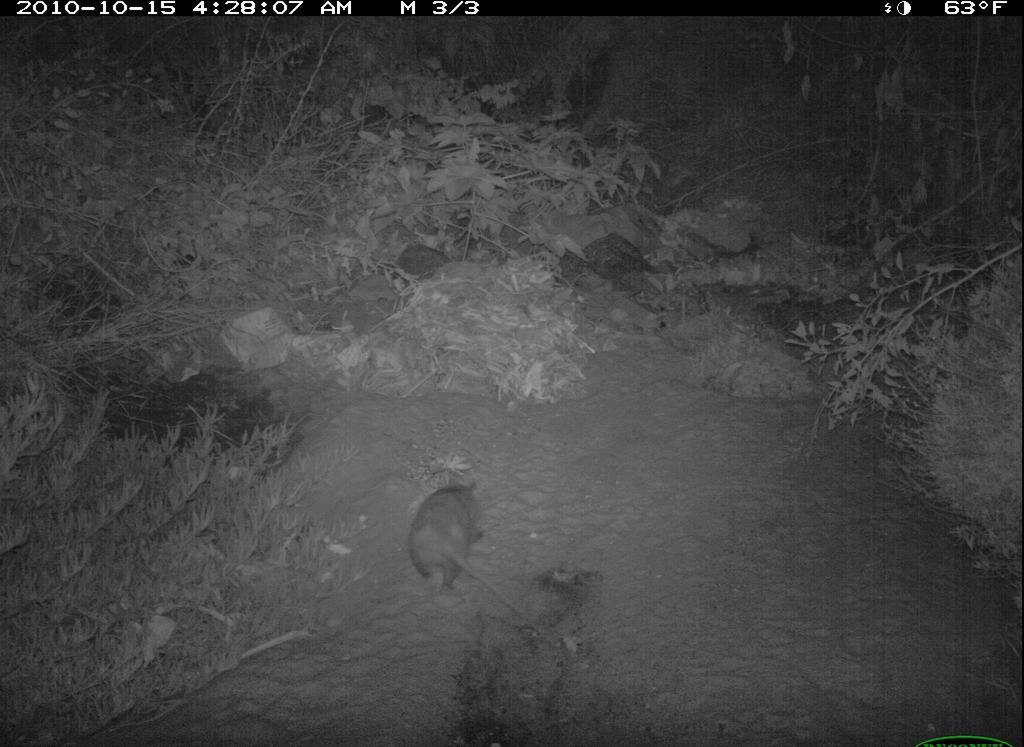opossum: (409, 468, 529, 620)
